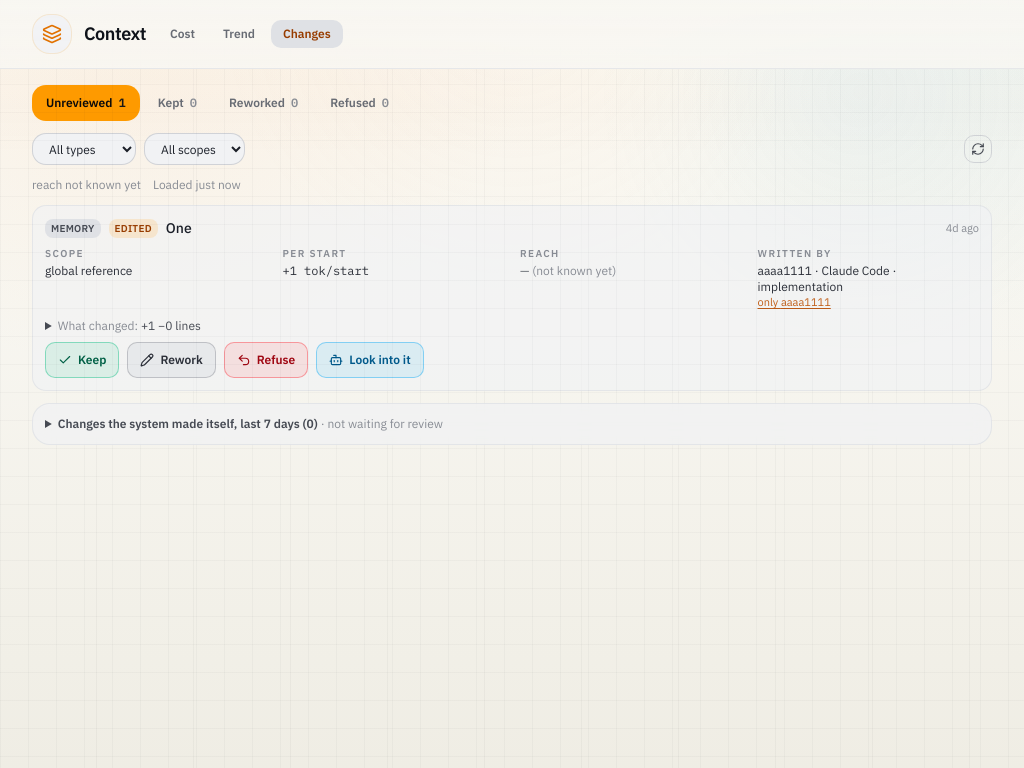
Test: Changes page › Look into it takes a note and a model, starts one agent and shows its status
Click the button with aria-label "Look into One" at coordinates (370, 360), box [316,342,424,378]
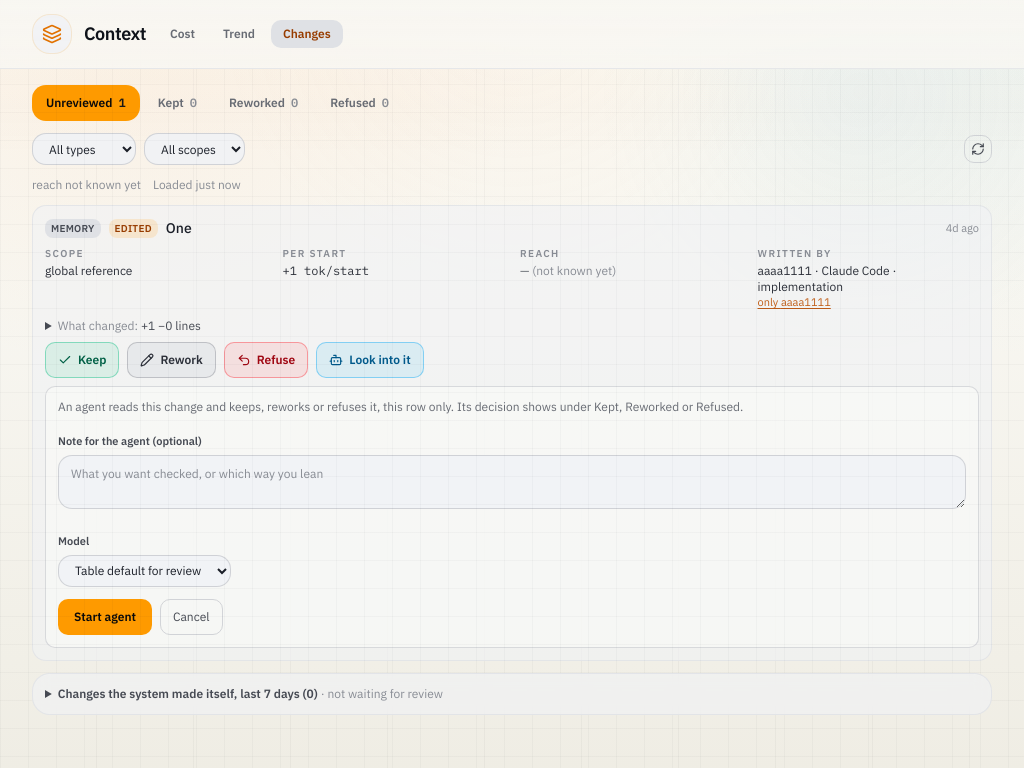
Type "Looks session-only to me" into the text box labelled "Note for the agent (optional)" at coordinates (512, 482), box [58,455,966,509]
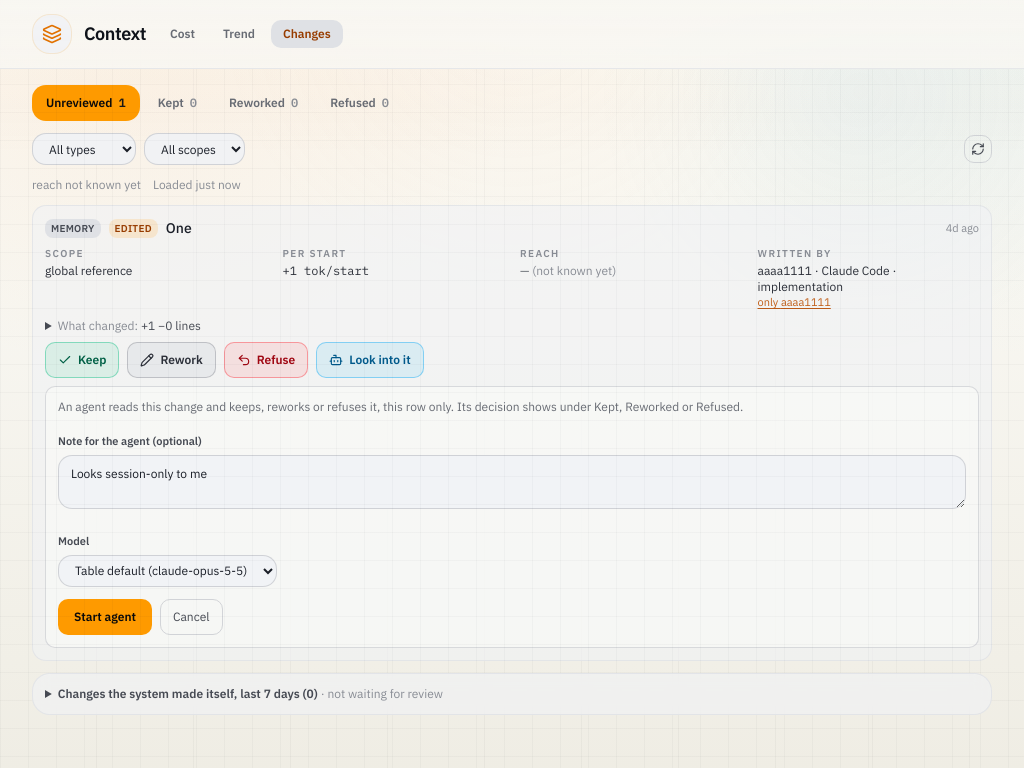
Select "gpt-6.1-sol (codex, xhigh)" in the dropdown labelled "Model" at coordinates (168, 571), box [58,555,277,587]
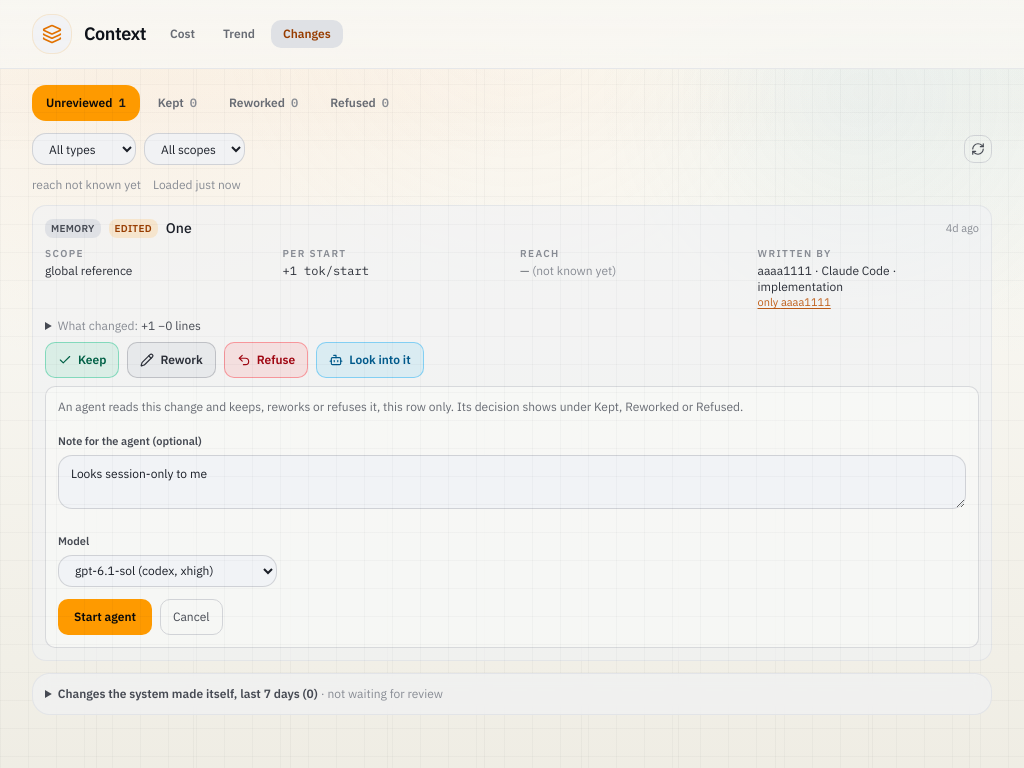
Click the button "Start agent" at coordinates (105, 617), box [58,599,152,635]
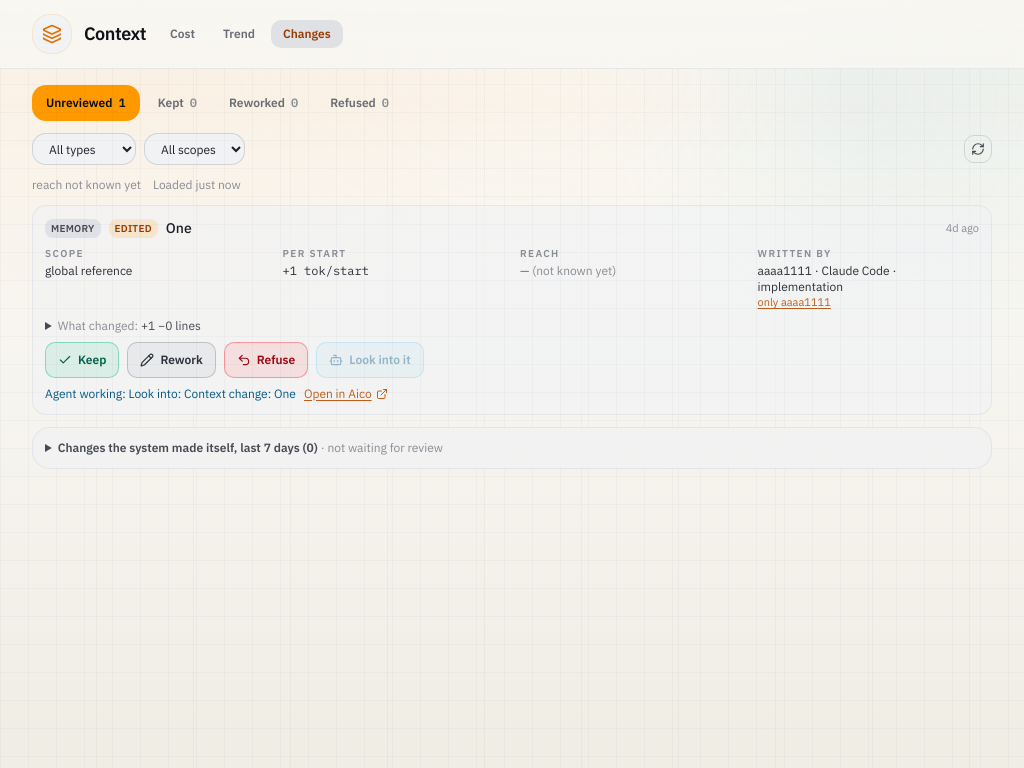
Expected: the button with aria-label "Keep One" is enabled, [45,342,119,378]
Result: the message with test id "lookinto-status" shows "Agent working: Look into: Context change: One" at [45,386,296,401]
Result: the button with aria-label "Look into One" is disabled at [316,342,424,378]
